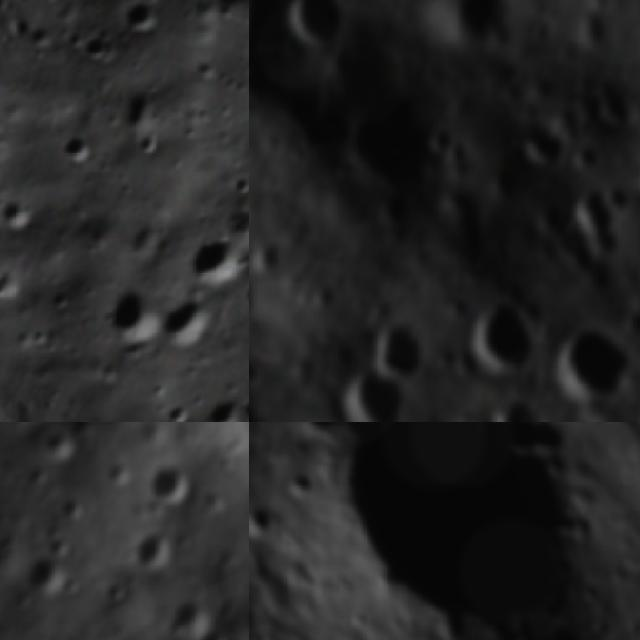crater: (282, 422, 613, 640), (338, 87, 440, 194), (458, 293, 544, 387), (551, 317, 633, 415), (174, 207, 249, 308), (150, 282, 234, 362), (323, 356, 422, 422), (363, 308, 440, 388), (563, 176, 620, 269), (439, 0, 525, 59), (99, 285, 166, 354), (62, 10, 128, 75), (128, 519, 194, 580), (140, 452, 202, 516), (17, 547, 76, 604), (289, 0, 353, 52), (249, 0, 301, 64), (165, 588, 225, 640), (49, 116, 104, 172), (32, 423, 84, 472), (518, 121, 565, 174), (115, 0, 169, 39), (486, 391, 547, 422), (574, 1, 609, 55), (566, 137, 609, 178), (424, 114, 458, 158), (98, 575, 138, 610), (249, 499, 279, 543), (307, 274, 338, 314), (249, 239, 279, 279), (192, 616, 241, 640), (602, 182, 638, 214), (56, 492, 89, 526), (102, 461, 134, 495), (22, 458, 56, 489), (448, 138, 478, 172), (296, 422, 342, 438), (249, 349, 264, 398), (0, 531, 15, 560)
